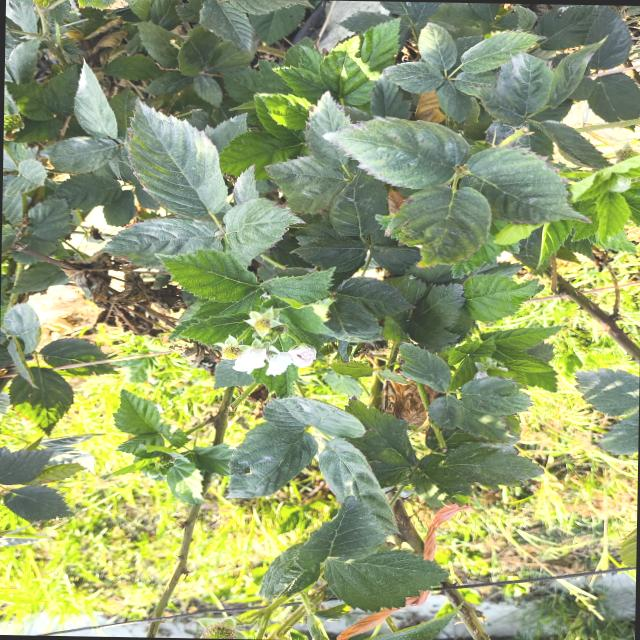boton: (609, 175, 631, 192)
flor: (233, 346, 267, 373), (287, 343, 316, 367), (266, 351, 292, 375)
